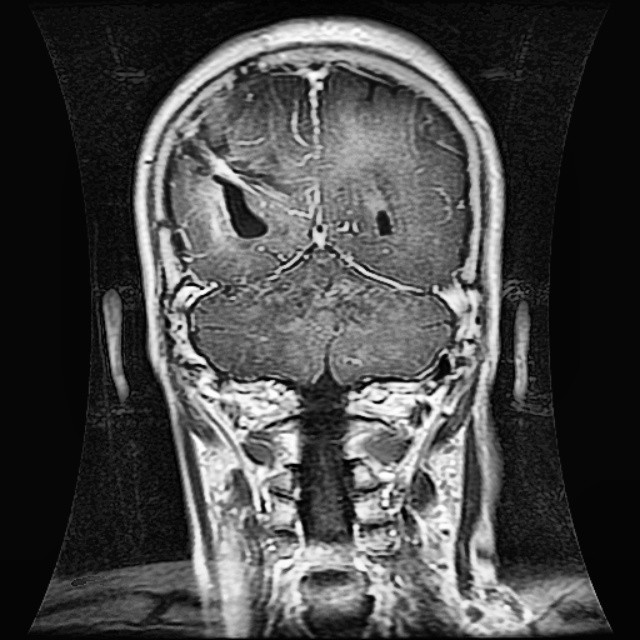Meningioma: (179, 94, 274, 243)
